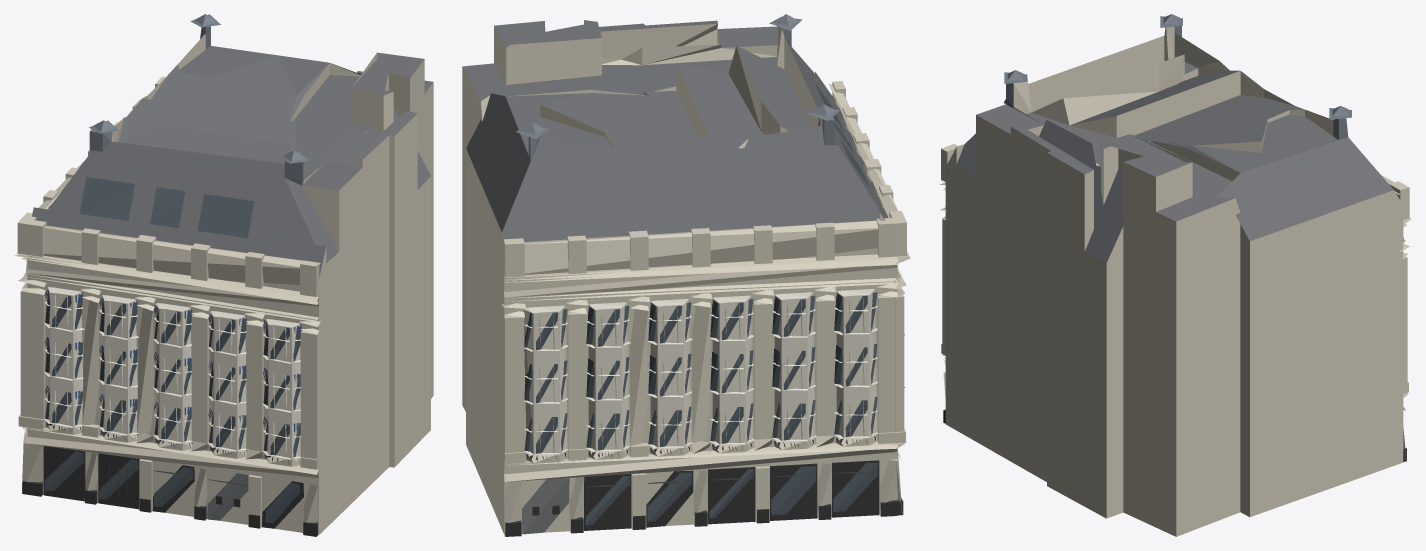
Rendered from maison-de-vries-leidseplein.lod1.glb.
3 views of the same model, side by side, from view 1: azimuth 30°, elevation 25°; view 2: azimuth 150°, elevation 25°; view 3: azimuth 270°, elevation 25° (orthographic). The views are drawn at different scales.
Visible parts, largest first — view 1: maison-de-vries-leidseplein; view 2: maison-de-vries-leidseplein; view 3: maison-de-vries-leidseplein.
Boxes of the visible parts, <box> form: maison-de-vries-leidseplein: <box>14,14,433,536</box>; maison-de-vries-leidseplein: <box>462,14,910,536</box>; maison-de-vries-leidseplein: <box>940,14,1411,536</box>.
Size of the model in its own units: 31.67 by 25.98 by 30.91.
